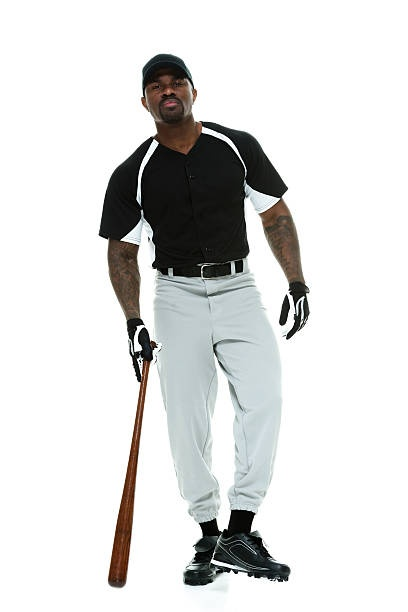bita: (101, 339, 156, 586)
